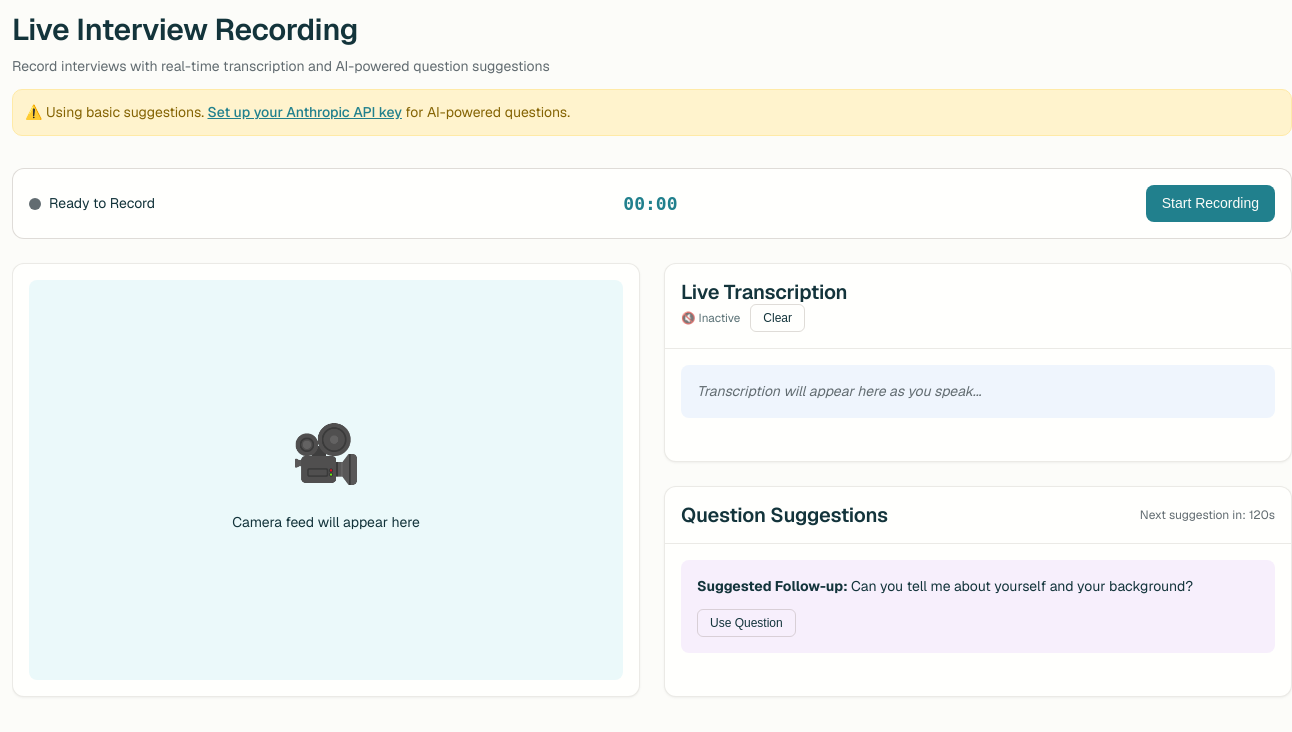
LiveInterview › stops recording and shows completion message
Click the button "Start Recording": (1210, 204) x1=1146 y1=185 x2=1275 y2=222
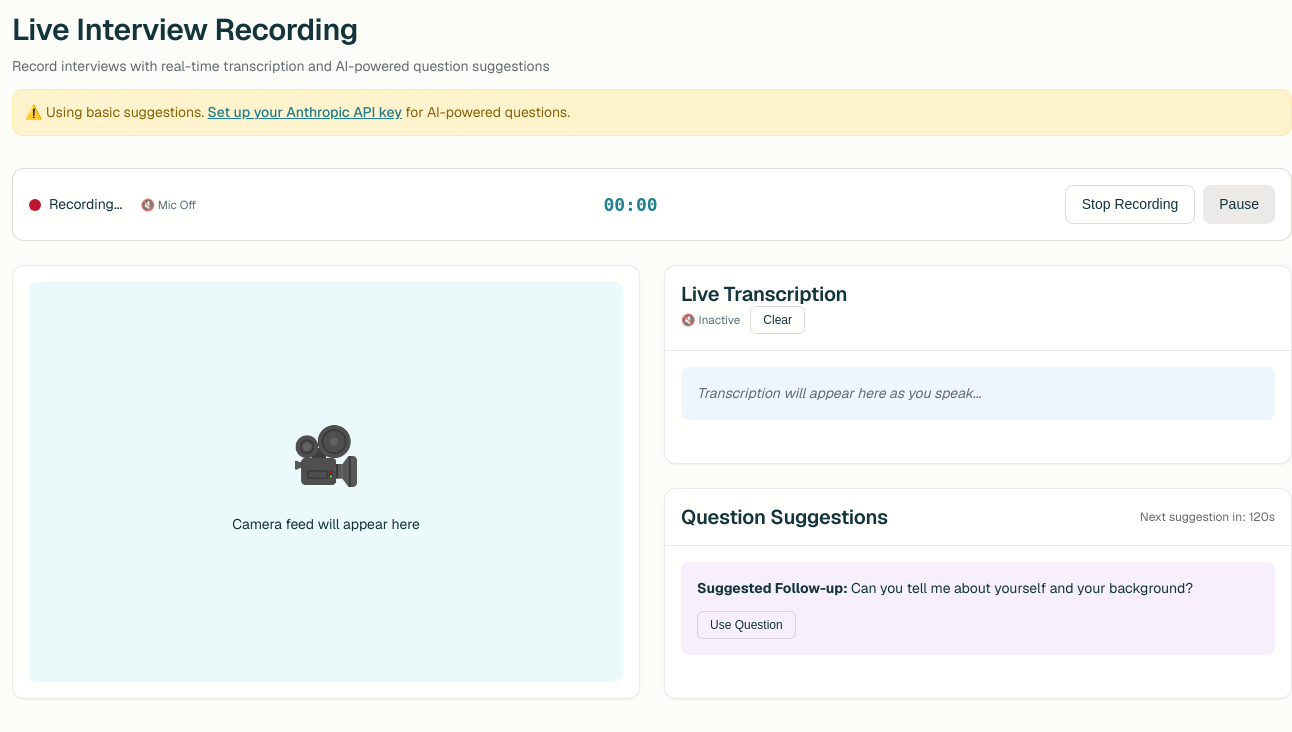
Click the button "Stop Recording": (1130, 204) x1=1065 y1=185 x2=1195 y2=224
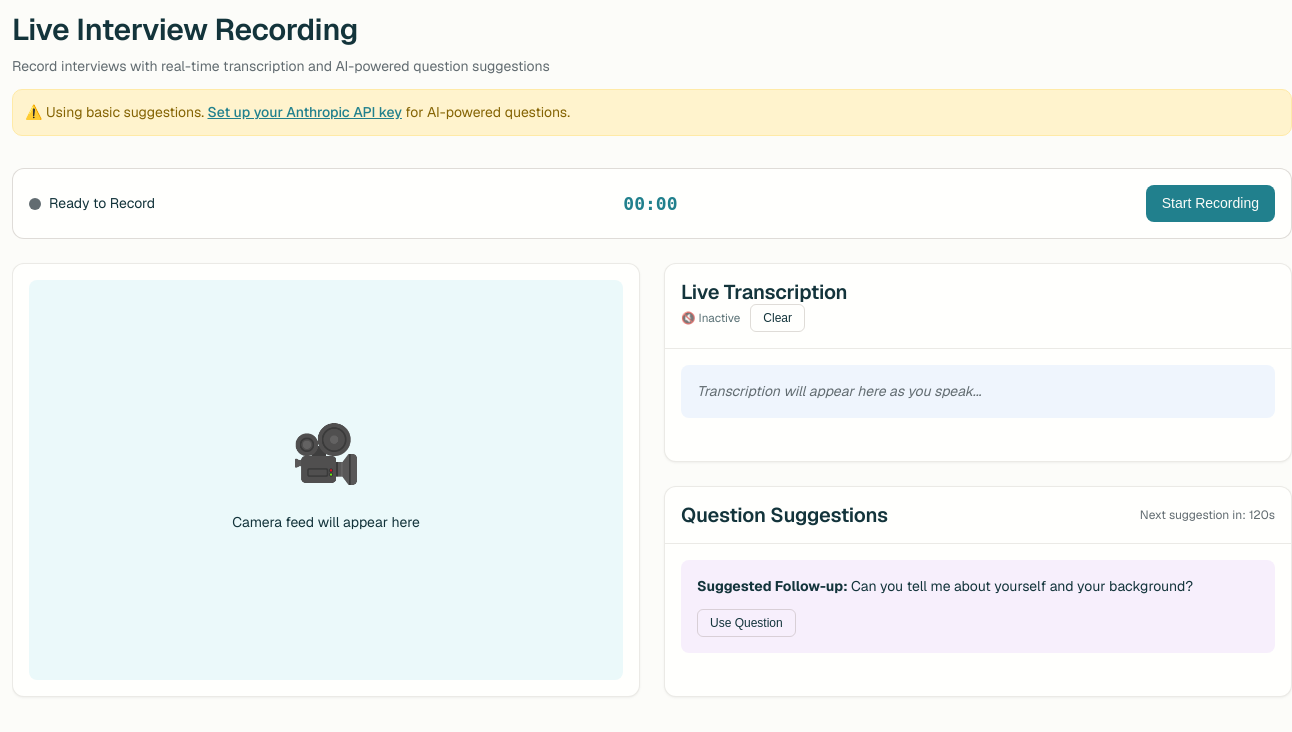
Check: the text "00:00" is shown, box x1=623 y1=190 x2=678 y2=217
Check: the text "Ready to Record" is shown, box x1=49 y1=193 x2=155 y2=214
